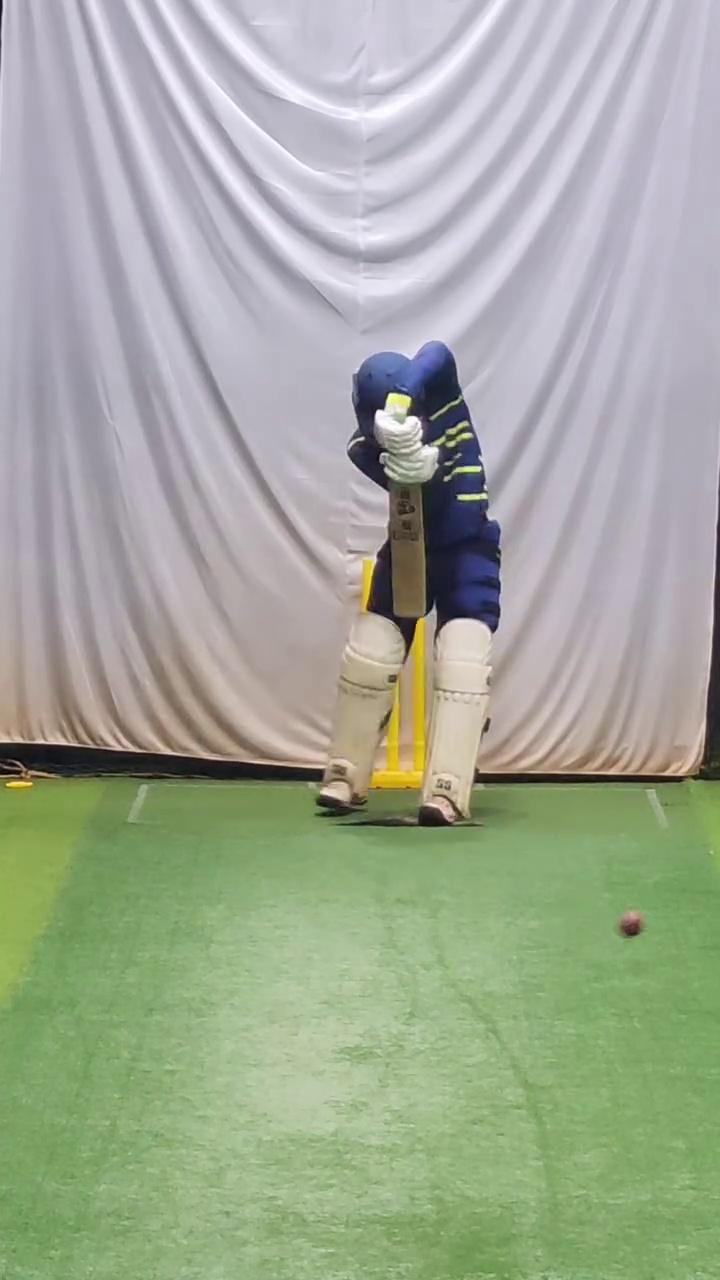bat: (389, 481, 426, 620)
